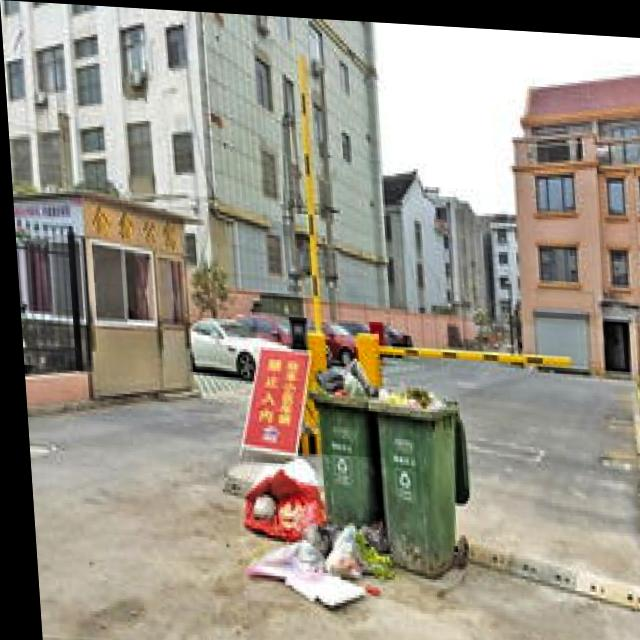garbage: (229, 447, 387, 604)
overflow: (359, 375, 459, 576), (300, 349, 368, 526)
